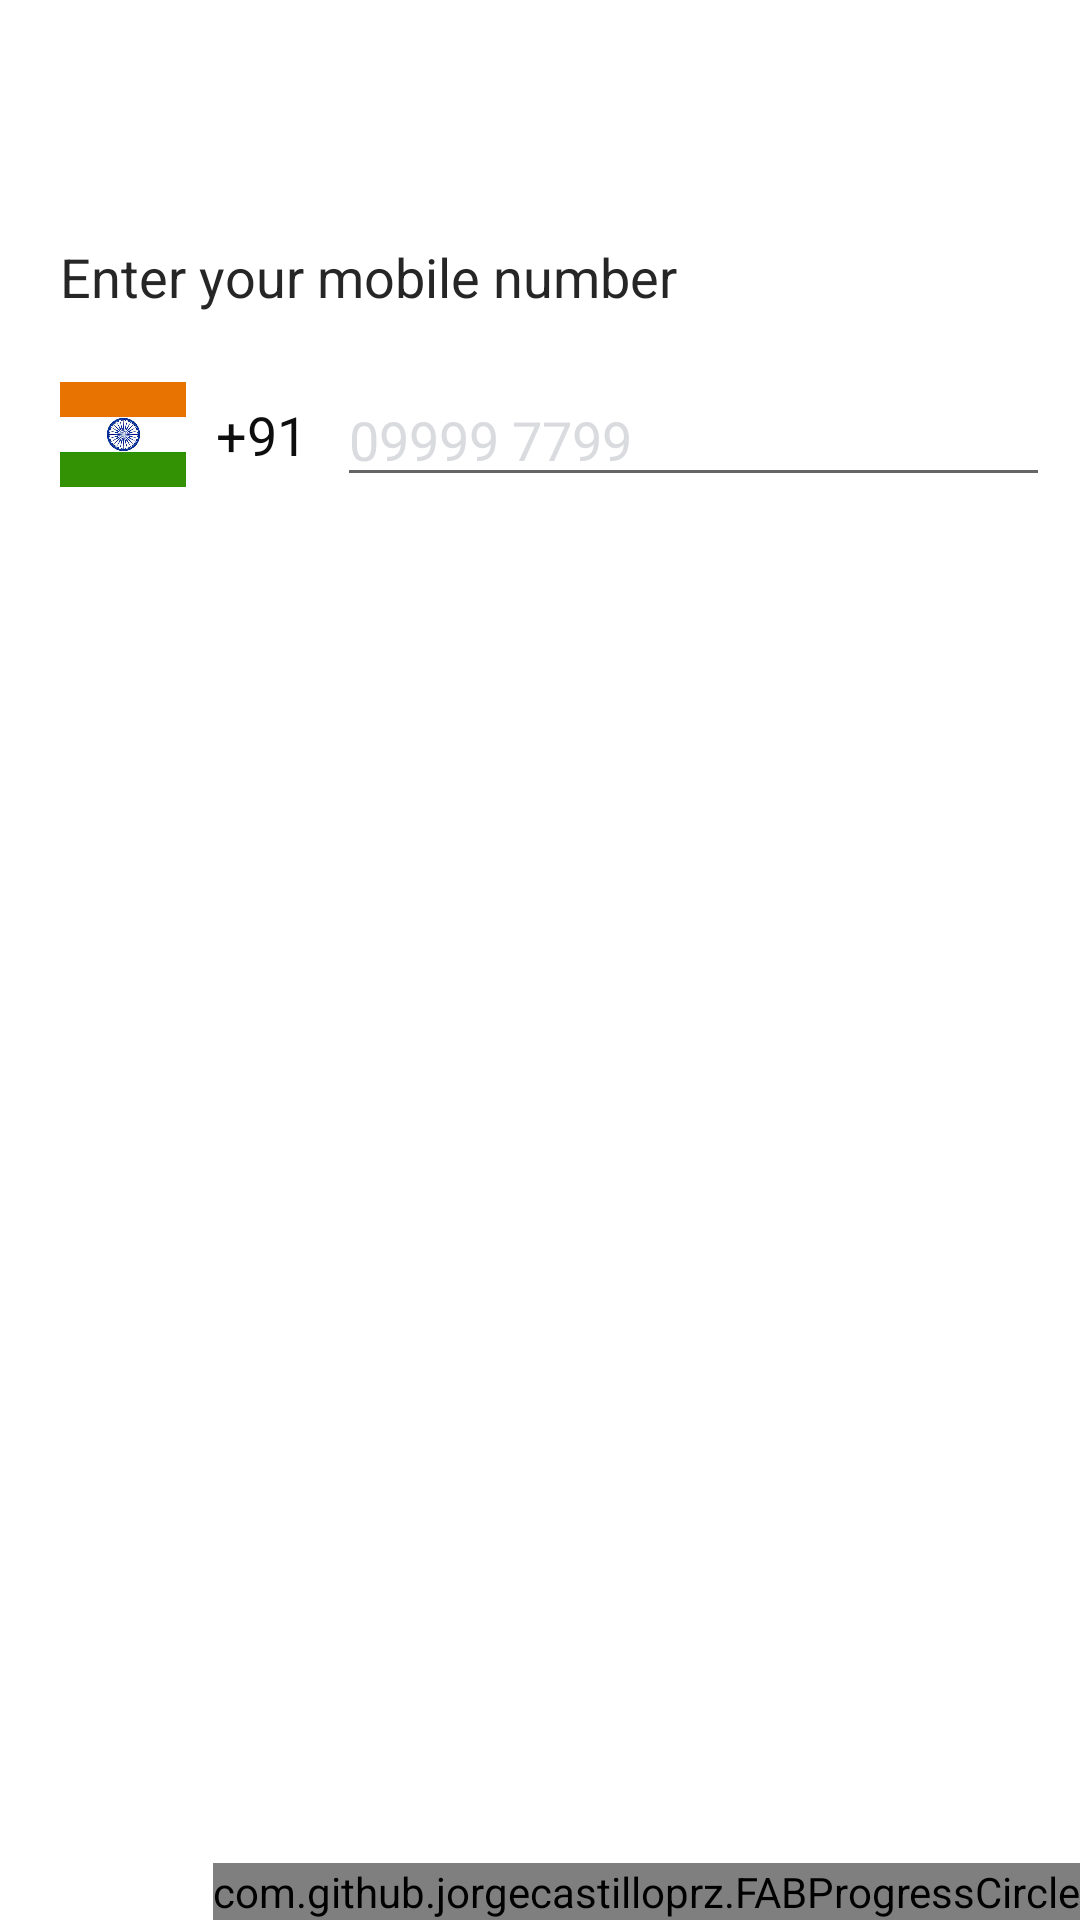

Where to tap for icons on this 1080x1920 app screen, as [x,y]:
flag: [123,434]
